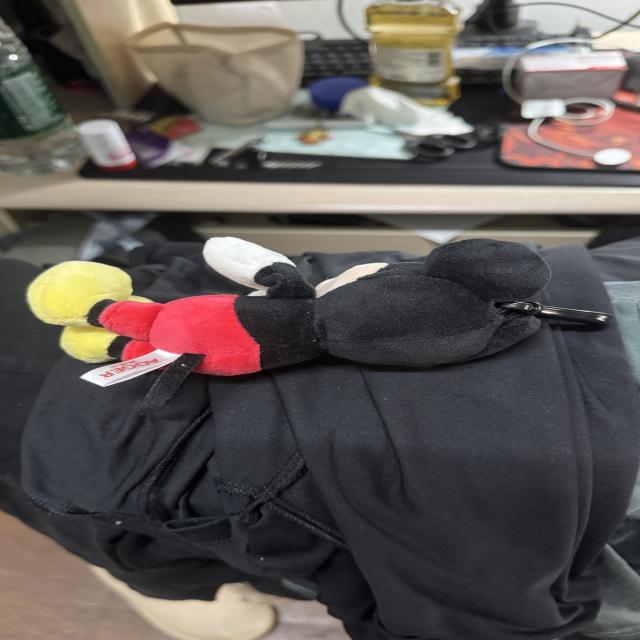mickey: (28, 238, 550, 375)
